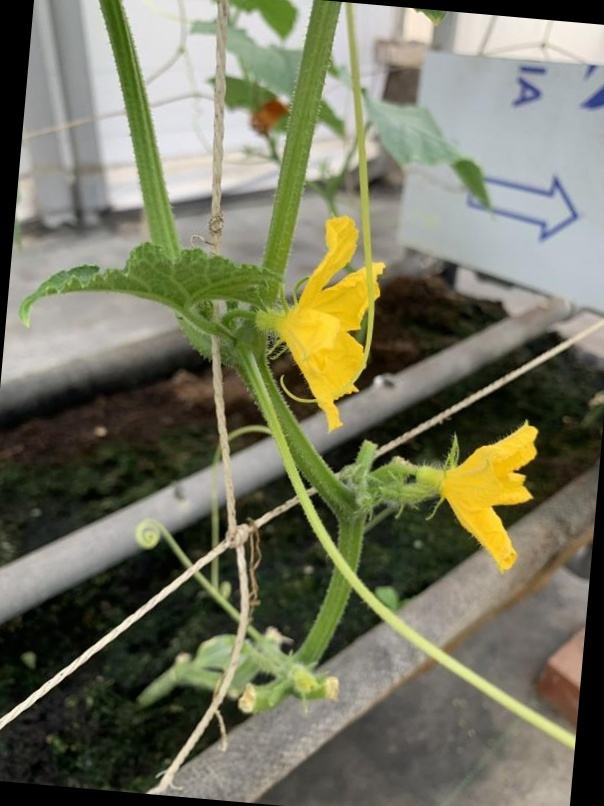flowering: (255, 210, 394, 425), (449, 402, 540, 571)
